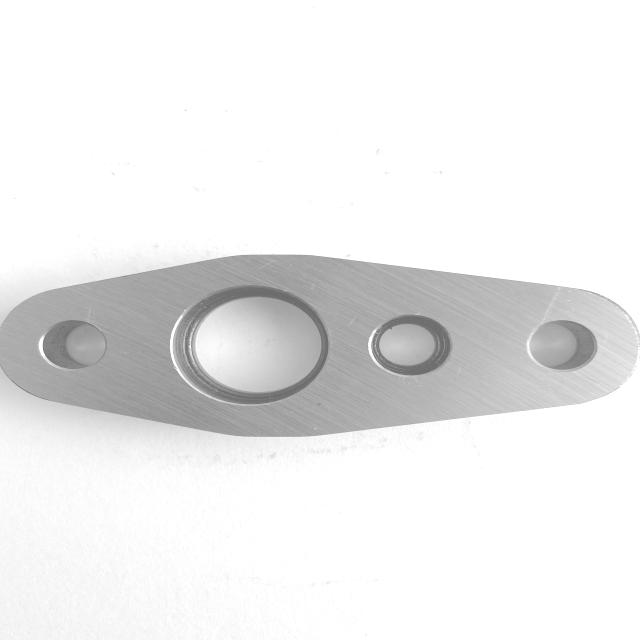chap: (562, 288, 578, 314), (411, 376, 423, 390), (311, 426, 319, 431)
lines: (253, 260, 279, 272), (345, 313, 359, 331), (84, 306, 94, 324)
